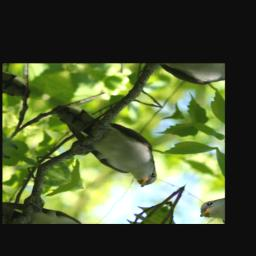Cuckoo: (34, 95, 180, 191)
